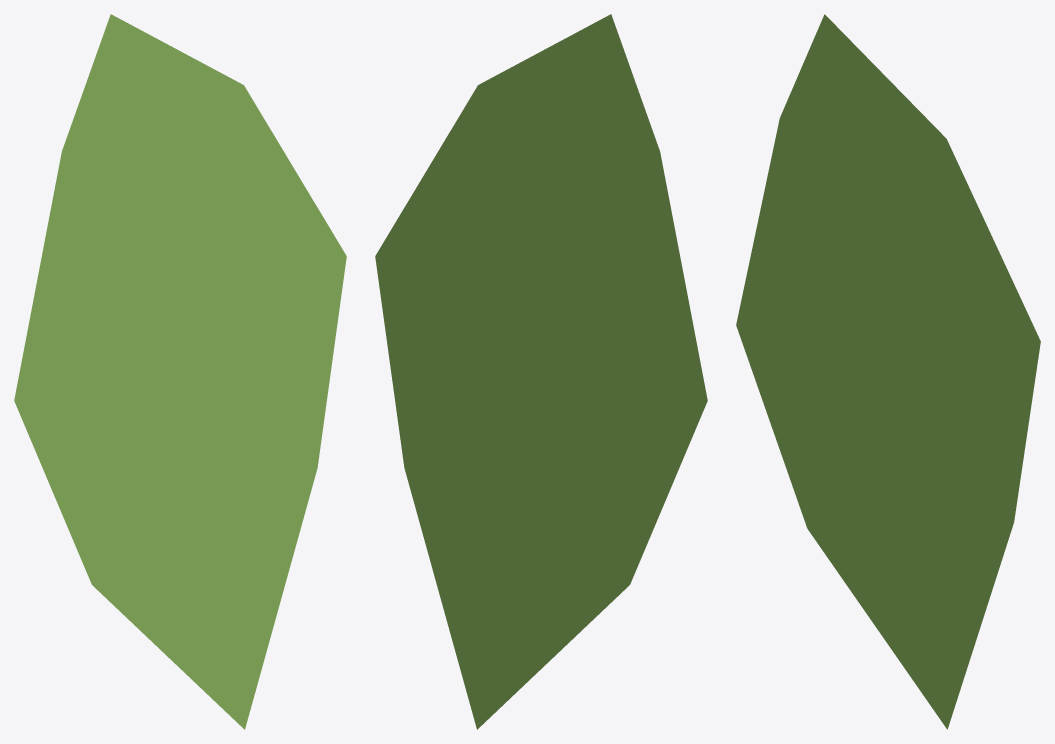
The model's file is LeafBigTree7.glb.
3 views of the same model, side by side, from view 1: azimuth 30°, elevation 25°; view 2: azimuth 150°, elevation 25°; view 3: azimuth 330°, elevation 25° (orthographic). The views are drawn at different scales.
Parts seen in each view (by area): view 1: Leaf_MidGreen_Bent.087; view 2: Leaf_MidGreen_Bent.087; view 3: Leaf_MidGreen_Bent.087.
Part boxes in pixels (left/top/right/bottom): Leaf_MidGreen_Bent.087: left=14, top=14, right=346, bottom=729; Leaf_MidGreen_Bent.087: left=375, top=14, right=707, bottom=729; Leaf_MidGreen_Bent.087: left=736, top=14, right=1040, bottom=729.
Size of the model in its own units: 0.2315 by 0.4979 by 0.
